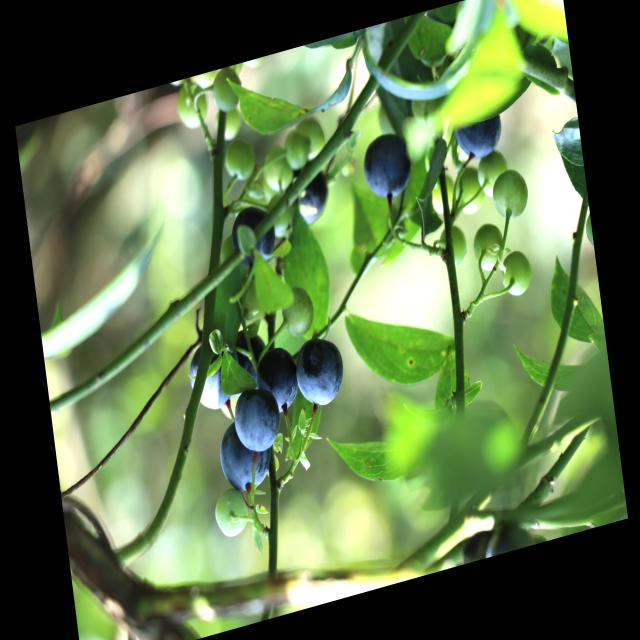blueberry: (215, 416, 274, 499), (291, 329, 348, 413), (184, 338, 243, 419), (358, 126, 416, 206), (228, 377, 284, 458), (250, 338, 301, 422), (227, 202, 279, 275), (454, 108, 506, 166), (295, 169, 334, 230)
blueberry-unripe: (209, 482, 254, 546), (491, 164, 532, 227), (280, 282, 318, 342), (172, 80, 210, 134), (293, 113, 331, 166), (475, 146, 512, 199), (472, 220, 506, 276), (499, 248, 534, 302), (259, 142, 294, 195), (209, 63, 247, 110), (222, 134, 256, 186), (454, 166, 487, 218), (436, 222, 470, 270), (282, 126, 310, 173)
